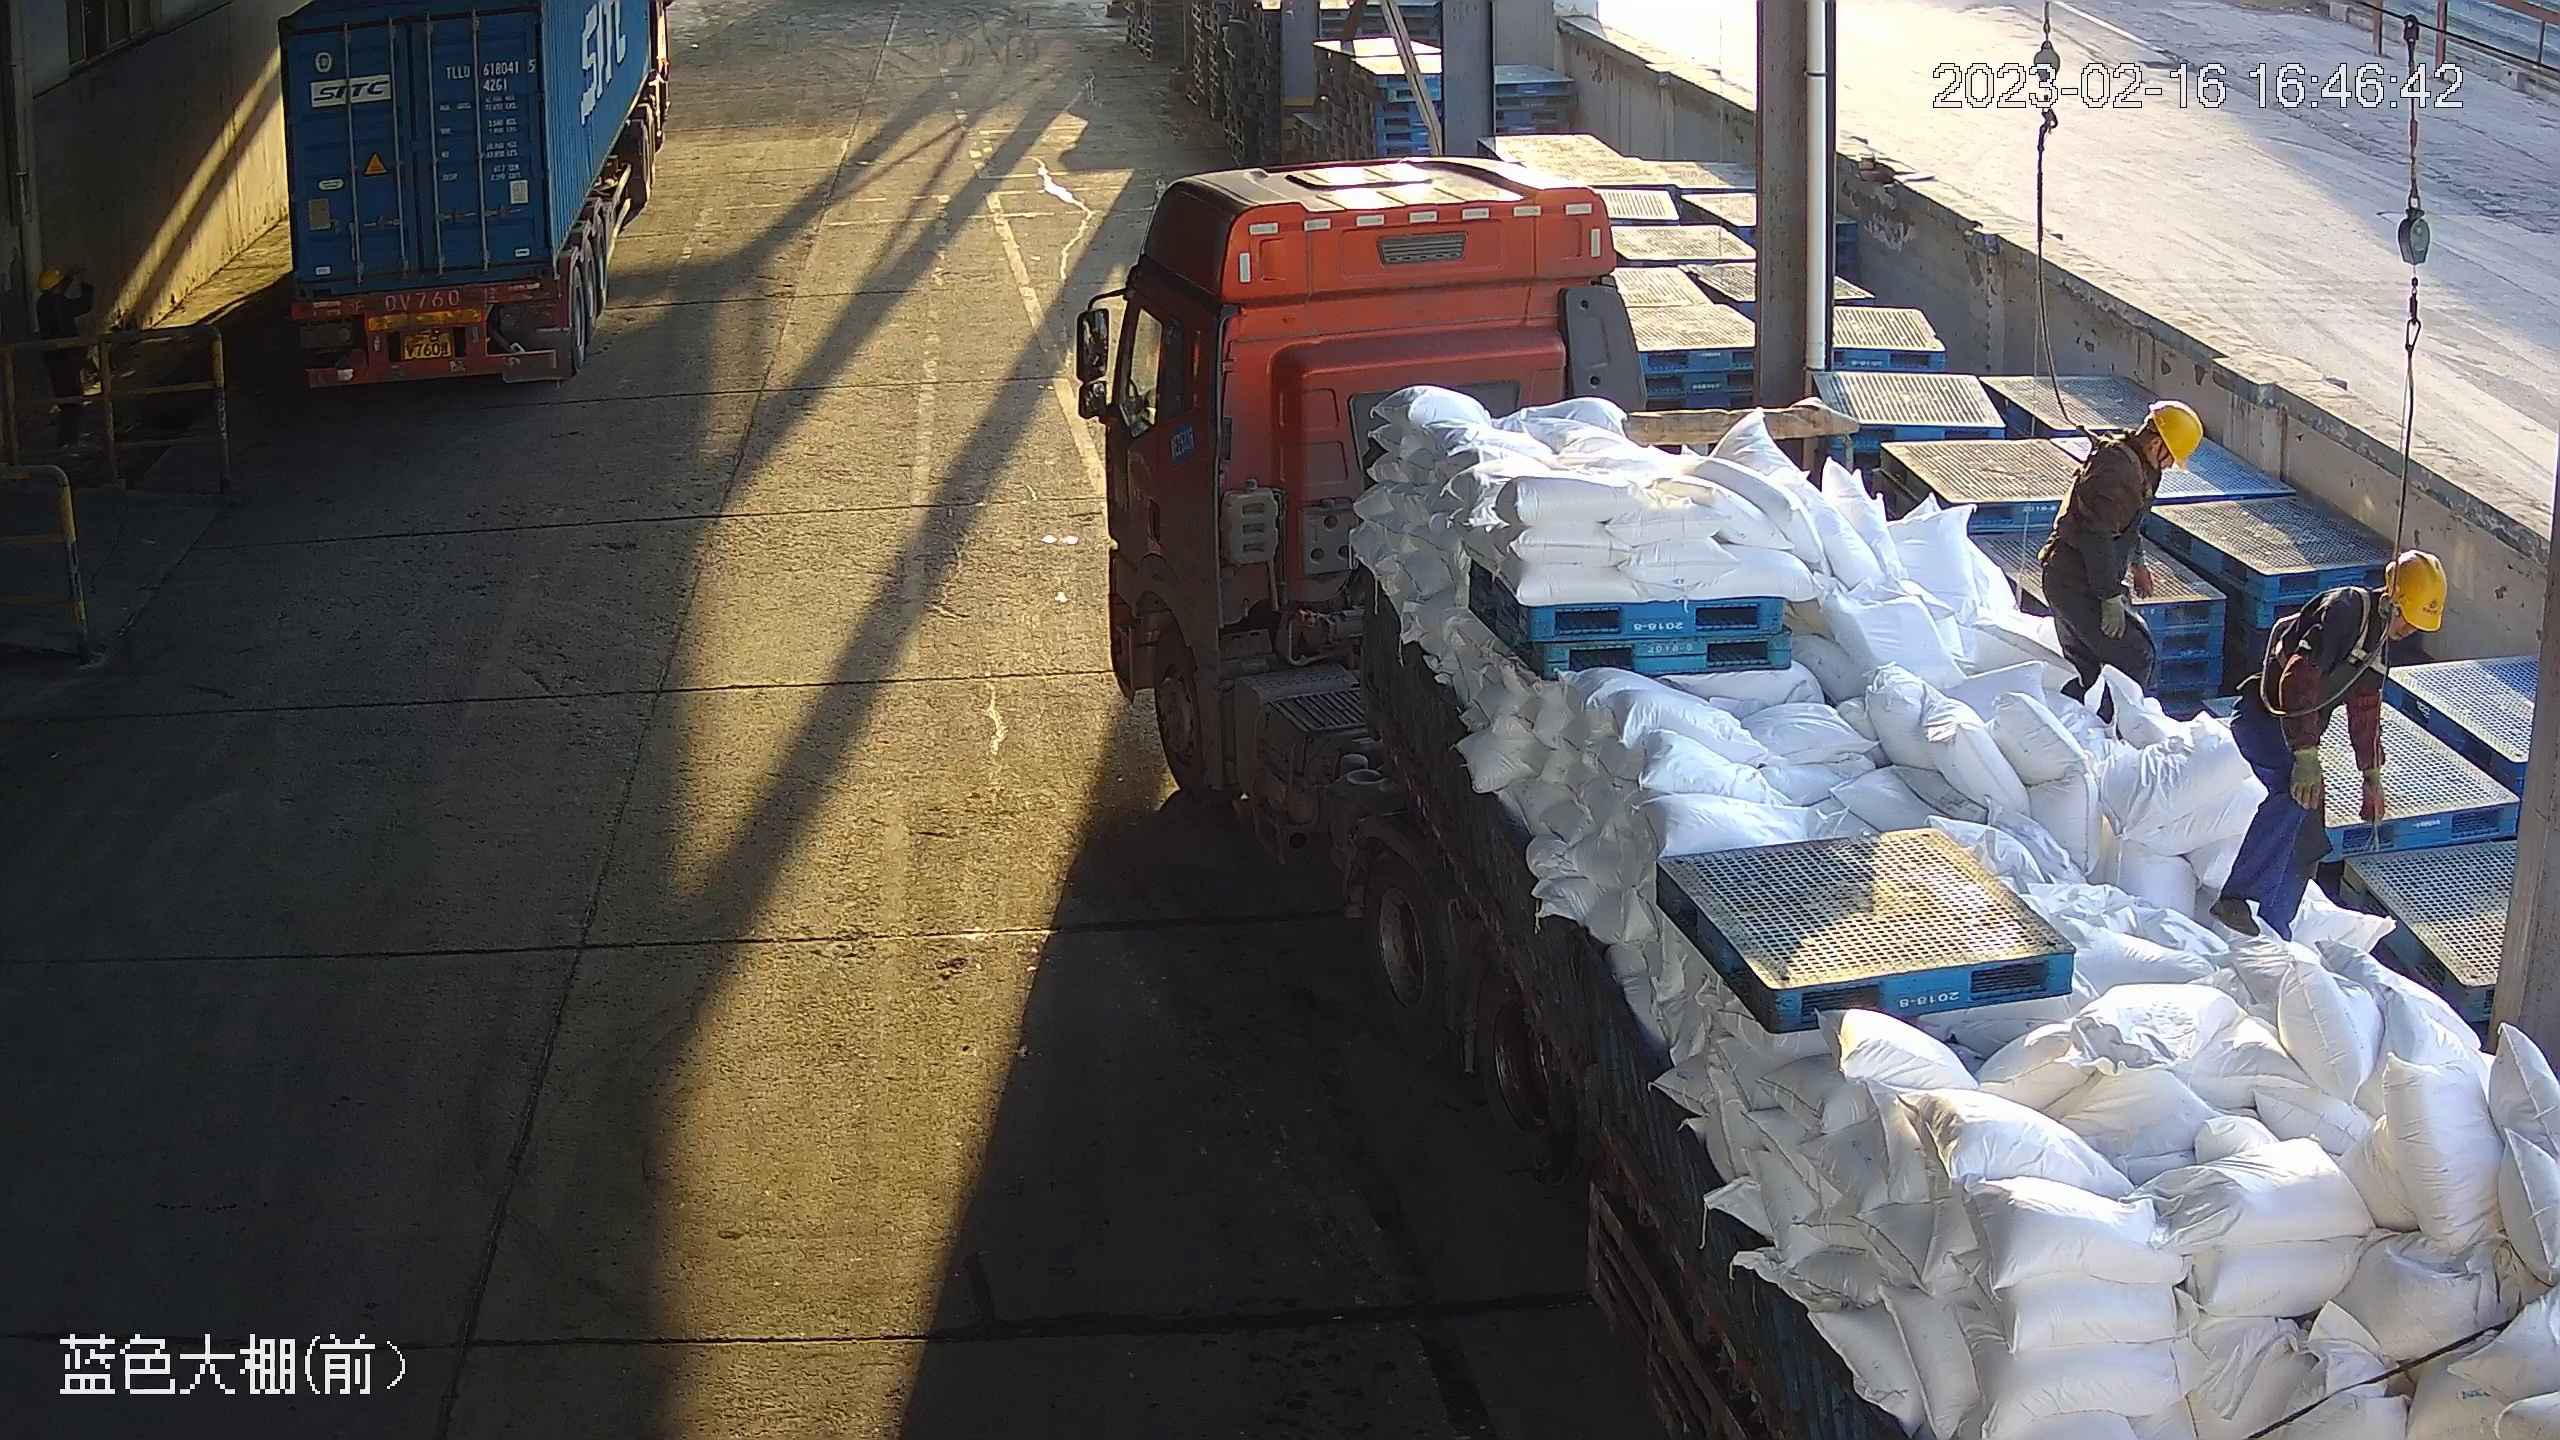belt: (2069, 428, 2140, 537), (2327, 579, 2391, 681)
head: (2290, 548, 2444, 696), (2071, 405, 2201, 535), (29, 264, 95, 342)
helmet: (2388, 550, 2446, 633), (2152, 403, 2203, 476), (37, 267, 64, 291)
people: (2208, 552, 2445, 945), (2037, 401, 2201, 722), (28, 262, 101, 447)
truck: (1073, 154, 2529, 1440), (278, 1, 678, 394)
